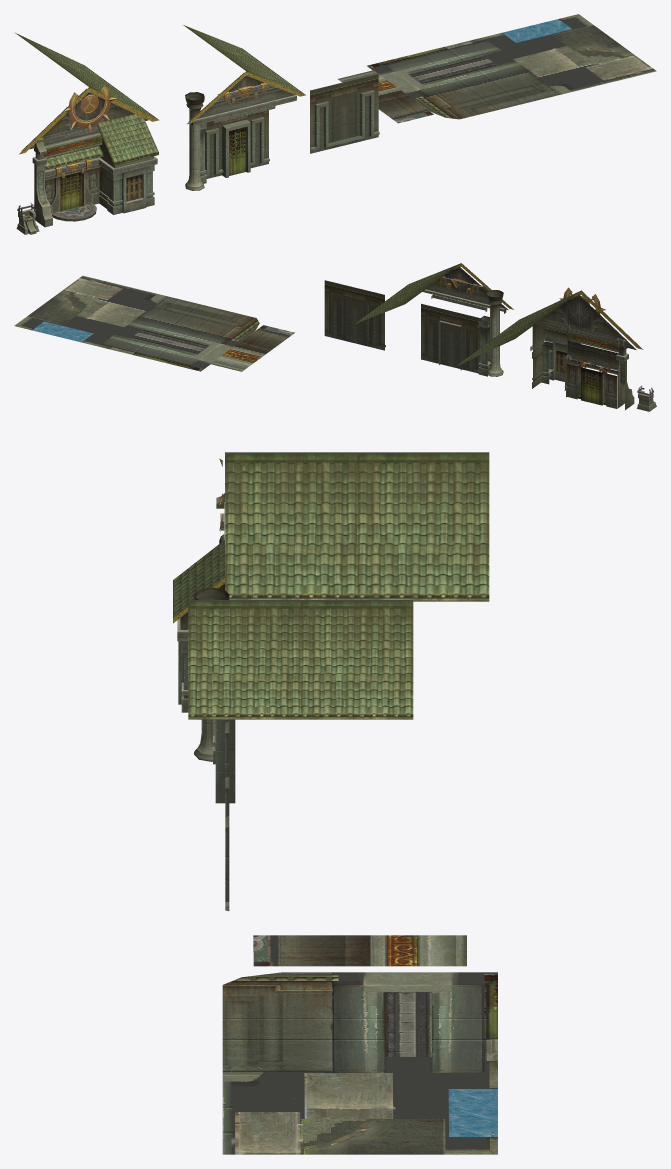
The model's file is f_1011_build.FBX.
3 views of the same model, one above another, from view 1: azimuth 30°, elevation 25°; view 2: azimuth 150°, elevation 25°; view 3: azimuth 270°, elevation 25° (orthographic). The views are drawn at different scales.
Parts seen in each view (by area): view 1: f_1001_floor_m, f_1011_build05, f_1011_build011, f_1011_build08, f_1011_build01, f_1011_build06, f_1011_build02, Object055, f_1011_build04, f_1011_build07, f_1011_build10, f_1011_build09; view 2: f_1001_floor_m, f_1011_build08, f_1011_build011, f_1011_build02, f_1011_build06, f_1011_build01, f_1011_build05, Object055, f_1011_build04, f_1011_build07, f_1011_build03, f_1011_build09; view 3: f_1001_floor_m, f_1011_build08, f_1011_build01, Object055, f_1011_build05, f_1011_build02, f_1011_build04.
Boxes of the visible parts, box(x1,y1,x2,y2) form: f_1001_floor_m: box(367, 14, 656, 119); f_1011_build05: box(97, 114, 158, 214); f_1011_build011: box(310, 74, 379, 153); f_1011_build08: box(15, 33, 159, 154); f_1011_build01: box(183, 25, 305, 125); f_1011_build06: box(44, 132, 103, 213); f_1011_build02: box(205, 110, 269, 178); Object055: box(338, 70, 433, 123); f_1011_build04: box(185, 92, 204, 190); f_1011_build07: box(32, 138, 52, 227); f_1011_build10: box(52, 203, 96, 221); f_1011_build09: box(16, 202, 39, 234); f_1001_floor_m: box(14, 275, 259, 371); f_1011_build08: box(454, 287, 643, 367); f_1011_build011: box(324, 280, 385, 350); f_1011_build02: box(421, 303, 481, 373); f_1011_build06: box(565, 333, 622, 408); f_1011_build01: box(353, 263, 513, 324); f_1011_build05: box(530, 318, 580, 397); Object055: box(210, 325, 294, 371); f_1011_build04: box(486, 290, 503, 376); f_1011_build07: box(616, 338, 634, 410); f_1011_build03: box(478, 315, 490, 376); f_1011_build09: box(637, 385, 656, 411); f_1001_floor_m: box(222, 972, 497, 1154); f_1011_build08: box(219, 452, 489, 601); f_1011_build01: box(188, 600, 413, 719); Object055: box(253, 935, 466, 966); f_1011_build05: box(173, 540, 224, 712); f_1011_build02: box(215, 719, 235, 803); f_1011_build04: box(193, 587, 229, 761).
Bounding box in the file's own units: 3956 × 719 × 985.
